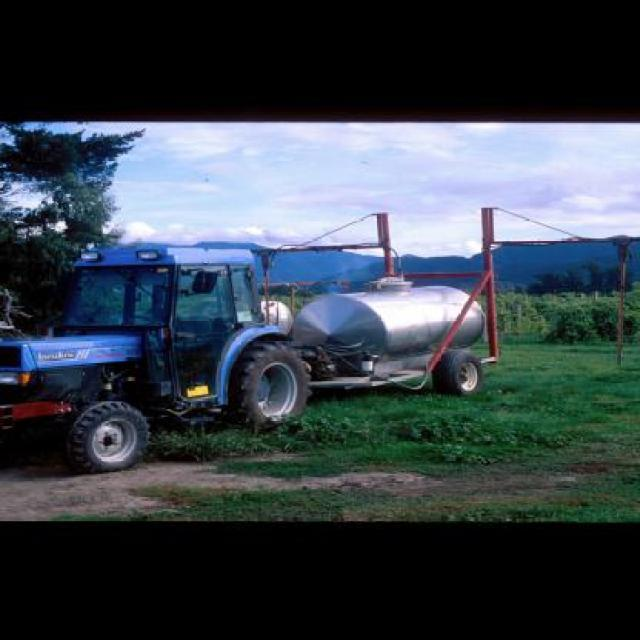Tratores - v5 YOLO V8L 2024-11-13: (0, 224, 322, 471)
